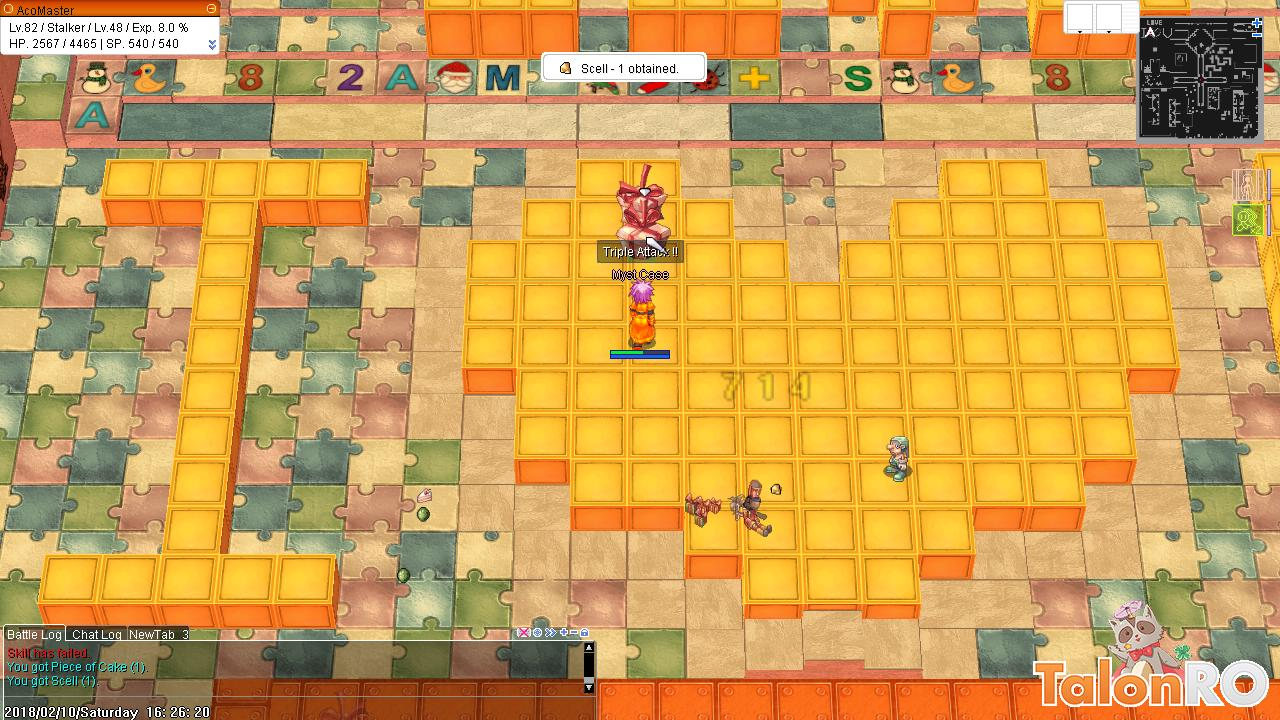loot: (412, 479, 435, 502), (412, 504, 434, 526), (767, 476, 785, 502), (392, 562, 409, 585)
myst_case: (616, 160, 670, 225), (619, 208, 677, 268)
